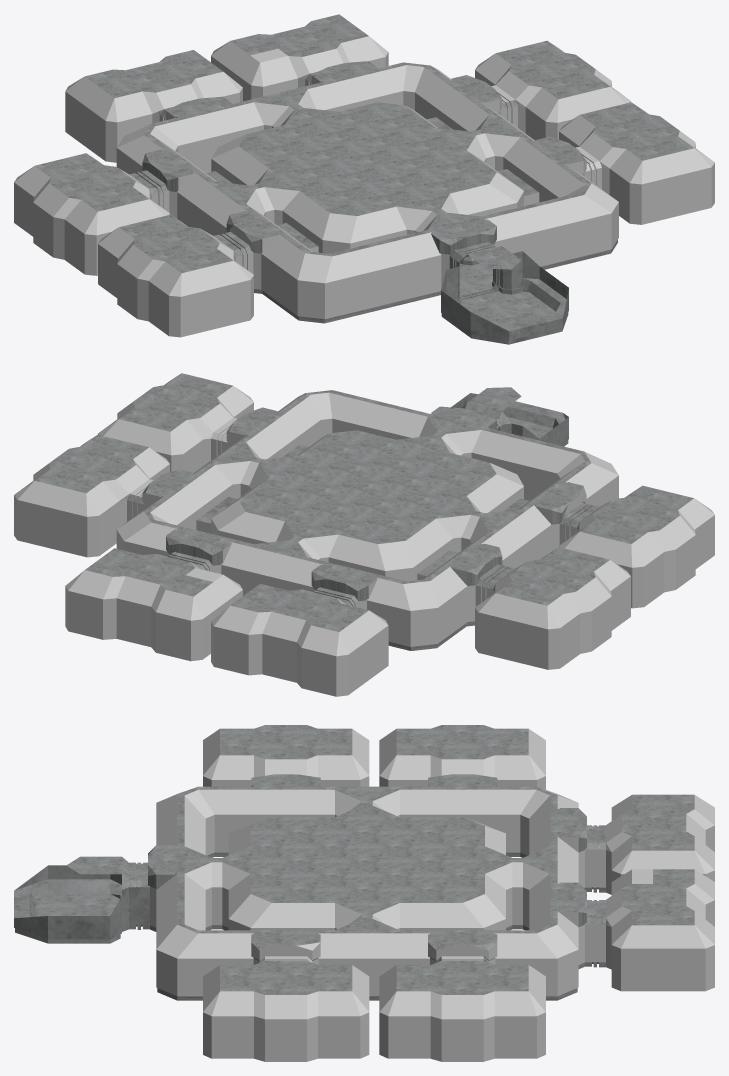
File: ship.fbx
3 renders of one model, top to bottom at view 1: azimuth 30°, elevation 25°; view 2: azimuth 150°, elevation 25°; view 3: azimuth 270°, elevation 25°, orthographic. The views are drawn at different scales.
Parts seen in each view (by area): view 1: Ceiling, Ceiling_Angled_Panels, Ship, Walls_Cockpit, Walls_Inner, Floor, Sockelleisten, Walls_Inner_Windows; view 2: Ceiling, Ceiling_Angled_Panels, Ship, Walls_Inner, Walls_Cockpit, Walls_Inner_Windows; view 3: Ceiling_Angled_Panels, Ceiling, Ship, Walls_Cockpit, Walls_Inner, Floor, Sockelleisten.
Part boxes in pixels (x1=…): Ceiling: x1=35, y1=14, x2=693, y2=273; Ceiling_Angled_Panels: x1=14, y1=21, x2=714, y2=296; Ship: x1=14, y1=52, x2=714, y2=337; Walls_Cockpit: x1=441, y1=251, x2=568, y2=344; Walls_Inner: x1=175, y1=91, x2=558, y2=260; Floor: x1=459, y1=263, x2=555, y2=325; Sockelleisten: x1=254, y1=240, x2=617, y2=323; Walls_Inner_Windows: x1=206, y1=117, x2=538, y2=248; Ceiling: x1=35, y1=373, x2=693, y2=631; Ceiling_Angled_Panels: x1=14, y1=374, x2=714, y2=656; Ship: x1=14, y1=402, x2=714, y2=696; Walls_Inner: x1=177, y1=418, x2=560, y2=581; Walls_Cockpit: x1=451, y1=393, x2=568, y2=446; Walls_Inner_Windows: x1=197, y1=444, x2=528, y2=576; Ceiling_Angled_Panels: x1=150, y1=729, x2=714, y2=1019; Ceiling: x1=66, y1=725, x2=694, y2=994; Ship: x1=150, y1=776, x2=714, y2=1061; Walls_Cockpit: x1=14, y1=865, x2=149, y2=943; Walls_Inner: x1=205, y1=814, x2=529, y2=930; Floor: x1=35, y1=894, x2=119, y2=916; Sockelleisten: x1=150, y1=852, x2=605, y2=1000.
Size of the model in its own units: 3658 by 350 by 3786.
